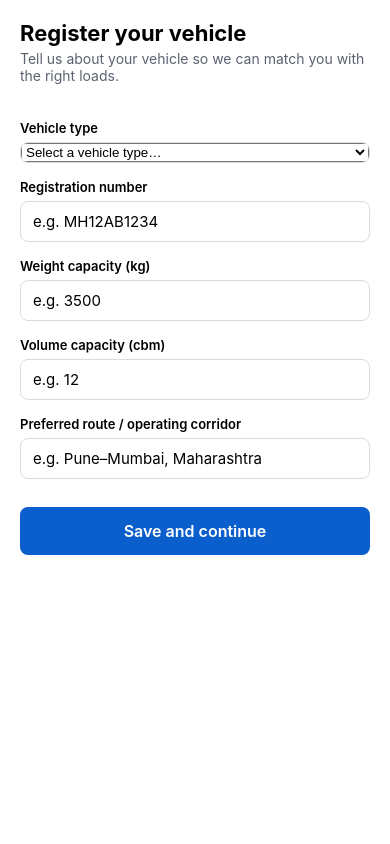
Test: VehicleRegistrationScreen › shows validation errors and does not submit when the form is empty
What coordinates should you click on to do the following:
click the button with test id "vehicle-submit-button"
I would click on:
 (195, 531)
Its box is [20,507,370,555].
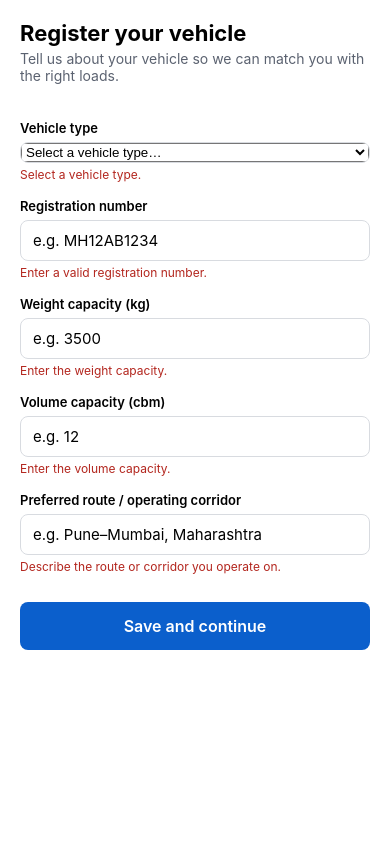
Expected: the text "Enter a valid registration number." is shown, [20,265,207,280]
